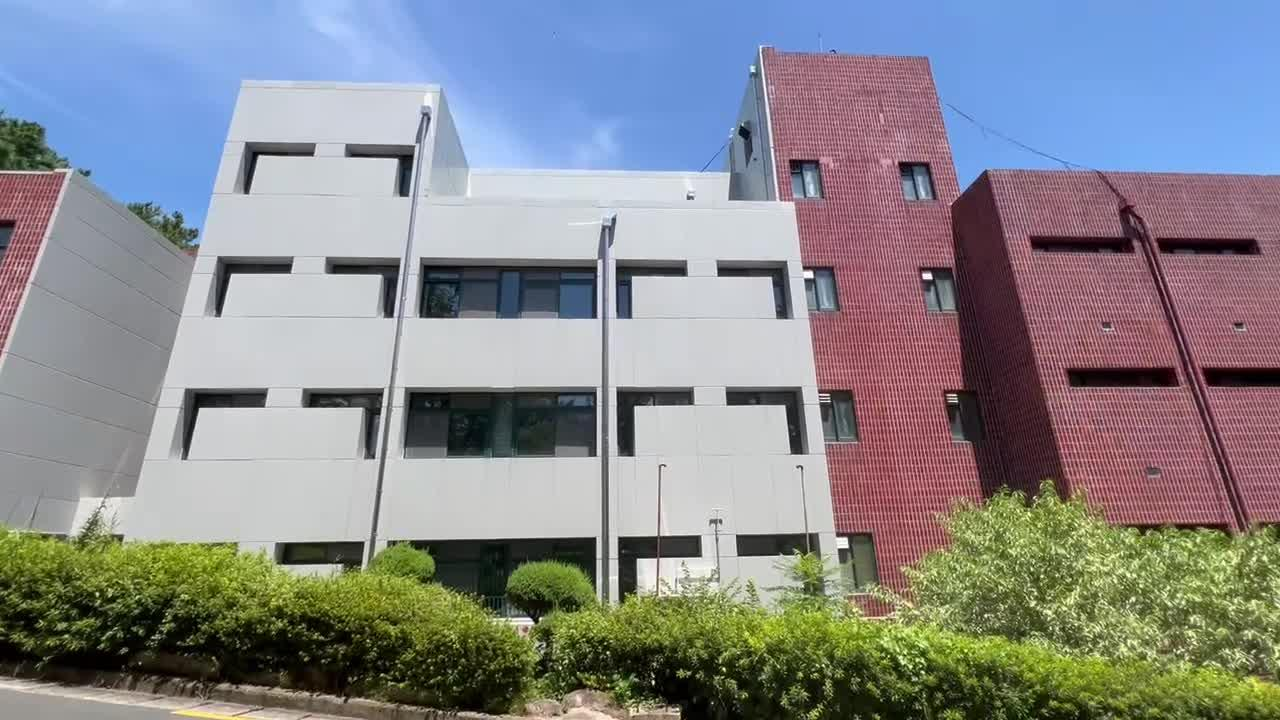building: (3, 26, 1280, 509)
